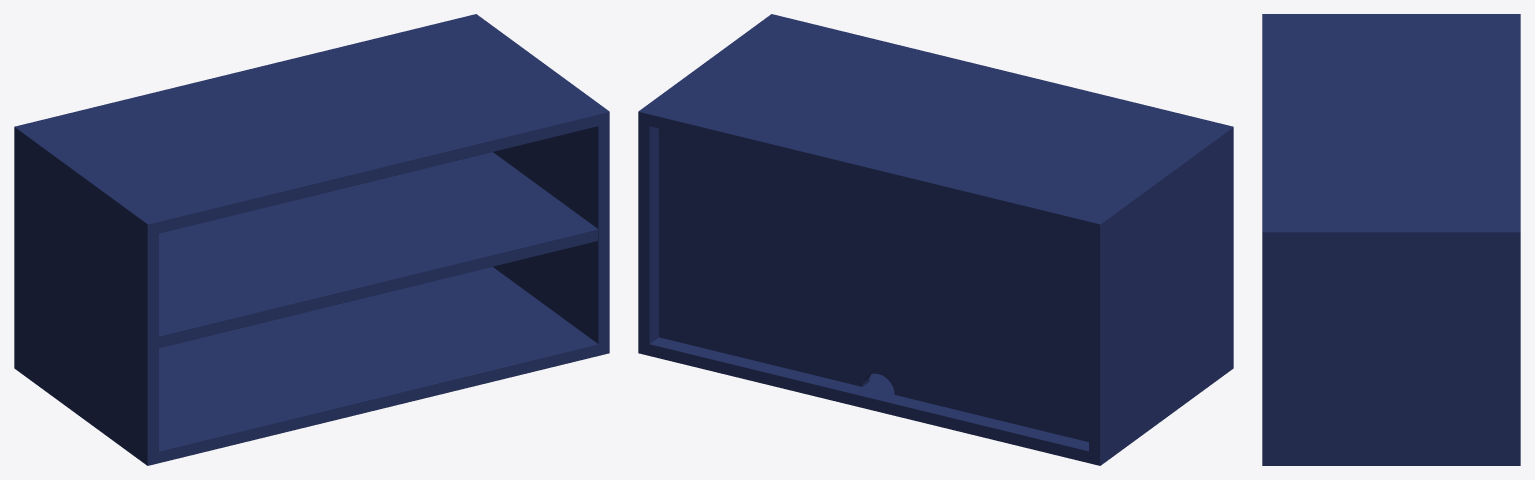
The model's file is MOD_2X1_S_B_AP_AF.glb.
3 views of the same model, side by side, from view 1: azimuth 30°, elevation 25°; view 2: azimuth 150°, elevation 25°; view 3: azimuth 270°, elevation 25° (orthographic). The views are drawn at different scales.
Bounding box in the file's own units: 720 × 360 × 360.
